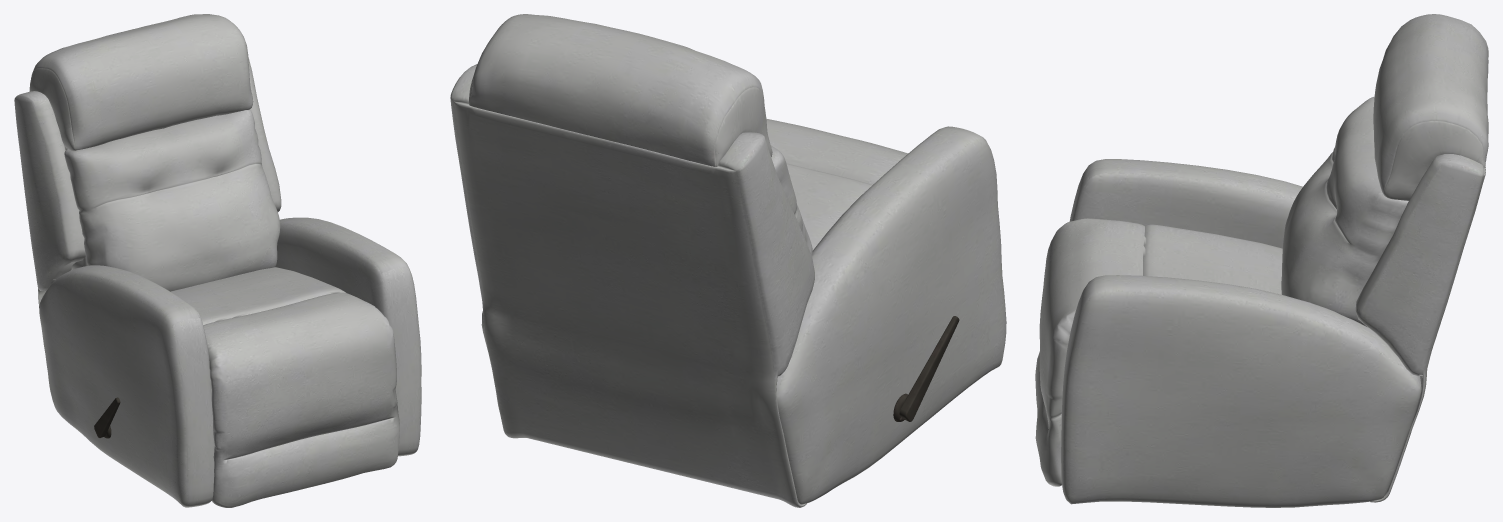
The model's file is B085FJR48X.glb.
3 renders of one model, left to right at view 1: azimuth 30°, elevation 25°; view 2: azimuth 150°, elevation 25°; view 3: azimuth 270°, elevation 25°, orthographic. The views are drawn at different scales.
Parts seen in each view (by area): view 1: RootNode; view 2: RootNode; view 3: RootNode.
Boxes of the visible parts, x1,y1,x2,y2 form: RootNode: (14, 14, 421, 507); RootNode: (450, 14, 1006, 507); RootNode: (1035, 14, 1488, 507).
Size of the model in its own units: 0.7984 by 1.01 by 1.04.
1 material, 1 textured.
